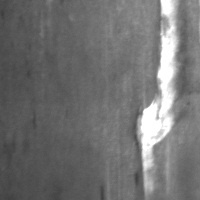inclusion: (3, 137, 29, 171)
scratches: (135, 1, 184, 199)
